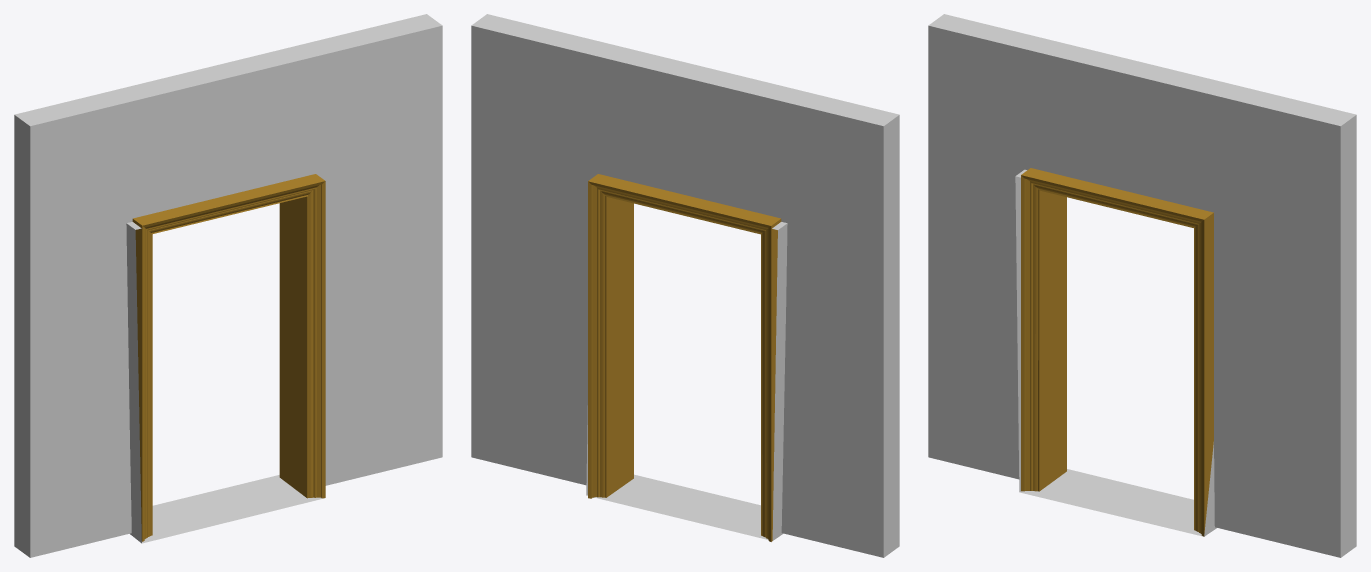
The model's file is pleasework 1.fbx.
3 renders of one model, left to right at view 1: azimuth 30°, elevation 25°; view 2: azimuth 150°, elevation 25°; view 3: azimuth 330°, elevation 25°, orthographic.
Parts seen in each view (by area): view 1: Cube.001, Cube.002, Cube.003; view 2: Cube.001, Cube.002, Cube.003; view 3: Cube.001, Cube.002, Cube.003.
Boxes of the visible parts, x1,y1,x2,y2 form: Cube.001: (14,14,442,557); Cube.002: (132,174,325,541); Cube.003: (126,222,323,543); Cube.001: (471,14,899,557); Cube.002: (588,174,781,541); Cube.003: (586,222,787,540); Cube.001: (928,14,1356,557); Cube.002: (1021,168,1213,536); Cube.003: (1015,169,1216,536).
Bounding box in the file's own units: 300 × 302 × 45.87.
